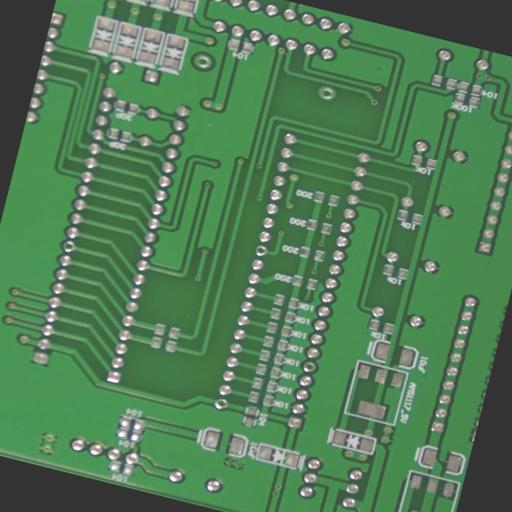missing_hole: (190, 52, 214, 69), (58, 237, 80, 254), (213, 394, 232, 412), (318, 84, 337, 100), (252, 241, 269, 258), (300, 358, 318, 372)
